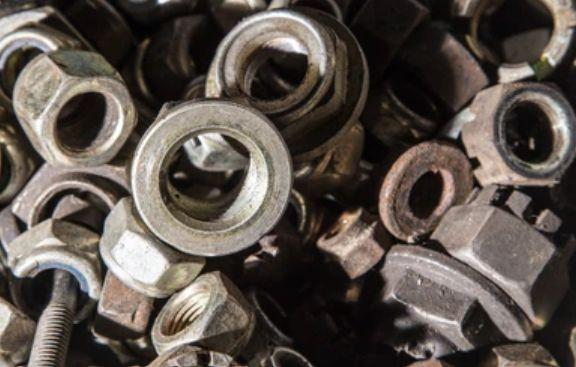metal: (128, 99, 289, 256), (417, 198, 573, 340), (207, 8, 360, 152), (12, 49, 135, 168), (455, 82, 575, 189), (378, 141, 474, 242), (151, 273, 257, 361), (467, 0, 574, 81), (6, 216, 107, 298), (133, 15, 220, 109), (0, 16, 85, 97), (314, 206, 388, 280), (349, 1, 430, 68), (25, 284, 81, 364), (2, 123, 37, 206), (114, 1, 203, 27), (210, 1, 264, 33)
